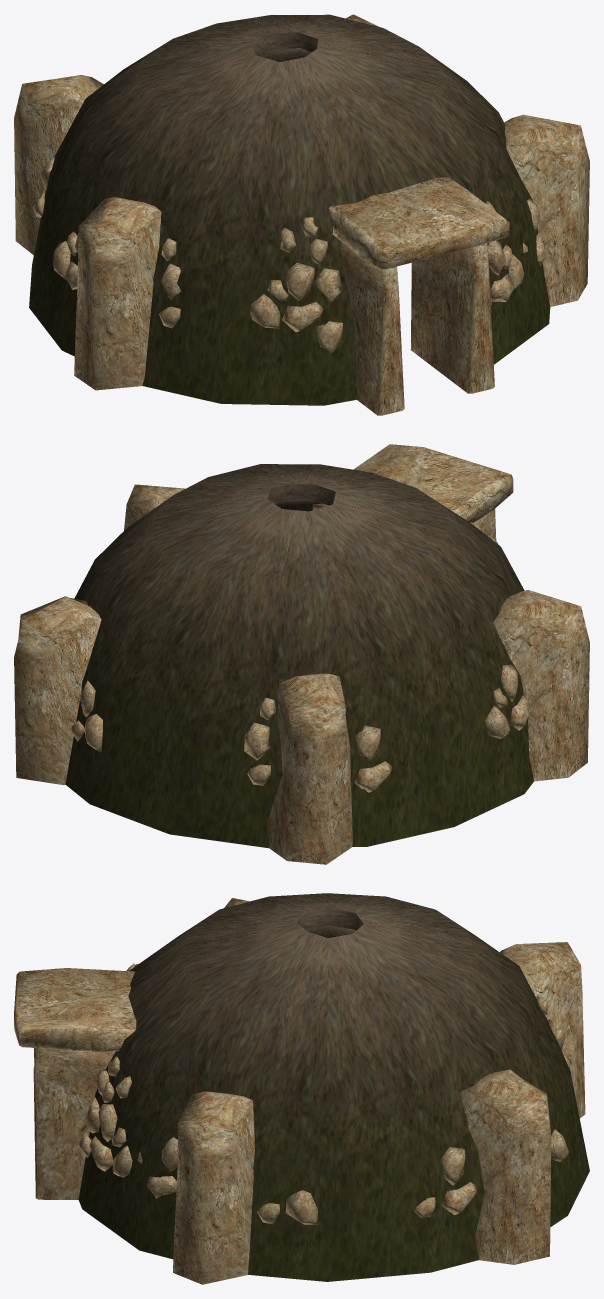
Rendered from thm_dant_large_mudhut_l1.fbx.
The picture shows the model from 3 angles, top to bottom: view 1: azimuth 30°, elevation 25°; view 2: azimuth 150°, elevation 25°; view 3: azimuth 270°, elevation 25°; orthographic projection.
Visible parts, largest first — view 1: mesh_node; view 2: mesh_node; view 3: mesh_node.
Boxes of the visible parts, <box> form: mesh_node: <box>14,14,589,415</box>; mesh_node: <box>14,444,589,864</box>; mesh_node: <box>14,893,589,1284</box>.
Size of the model in its own units: 16.01 by 7.9 by 16.67.
